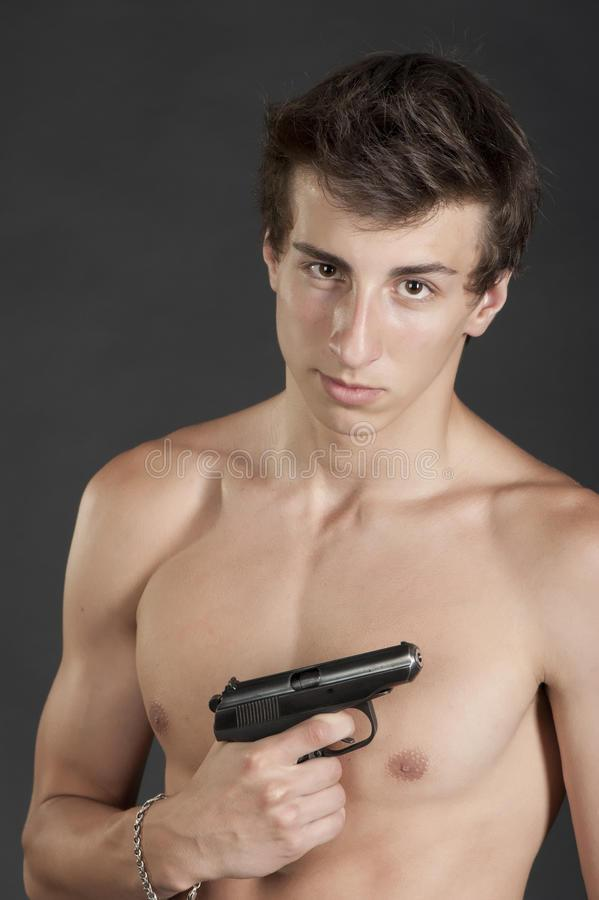criminal: (21, 52, 599, 900)
weapon: (207, 638, 424, 767)
